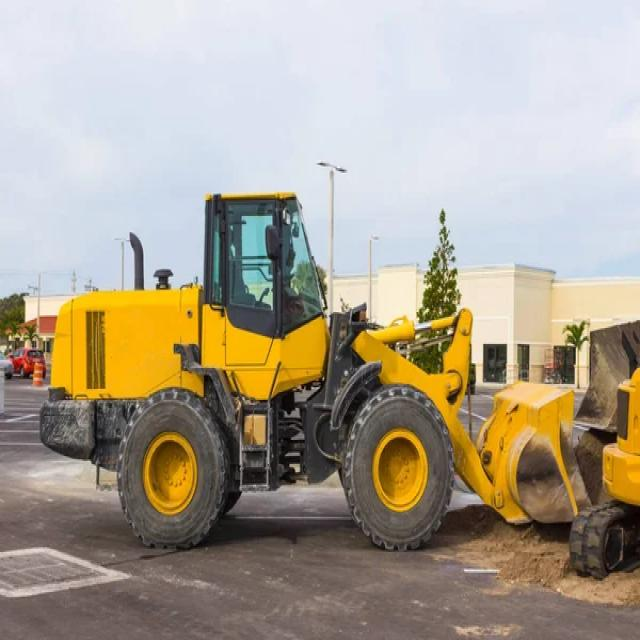buldozerpayloadergrader: (32, 197, 577, 552)
